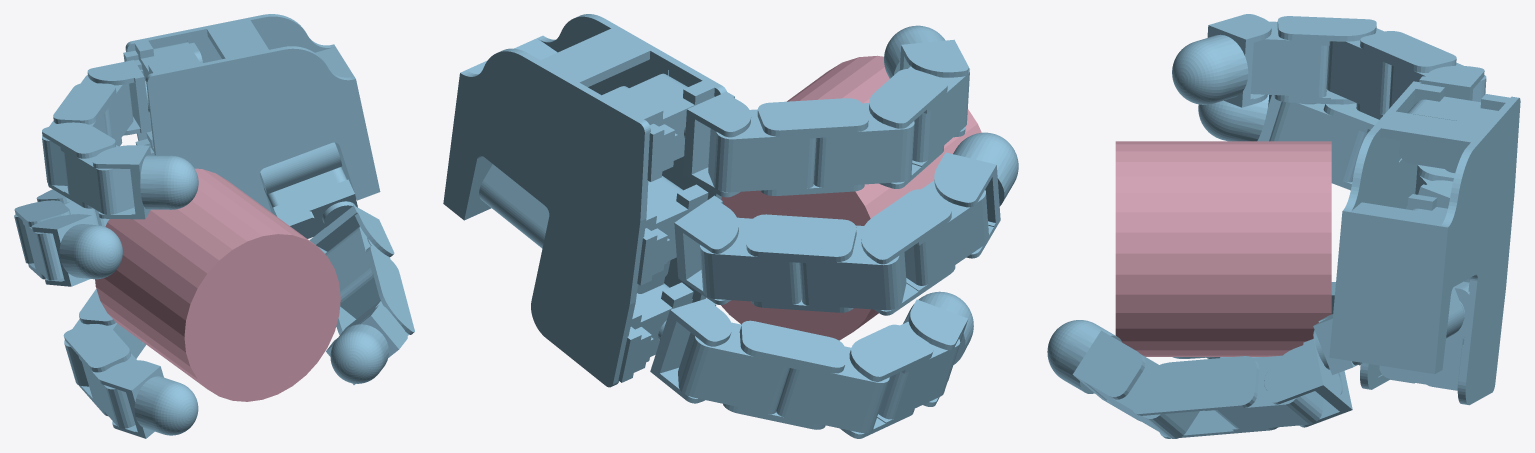
The picture shows the model from 3 angles, left to right: view 1: azimuth 30°, elevation 25°; view 2: azimuth 150°, elevation 25°; view 3: azimuth 270°, elevation 25°; orthographic projection. The views are drawn at different scales.
Parts seen in each view (by area): view 1: world, cylinder_medium.stl; view 2: world, cylinder_medium.stl; view 3: world, cylinder_medium.stl.
Boxes of the visible parts, <box> form: world: <box>14,14,414,438</box>; cylinder_medium.stl: <box>95,168,340,401</box>; world: <box>443,14,1018,438</box>; cylinder_medium.stl: <box>721,55,981,340</box>; world: <box>1047,14,1520,438</box>; cylinder_medium.stl: <box>1115,141,1331,356</box>.
Bounding box in the file's own units: 0.1929 × 0.1425 × 0.1754.
